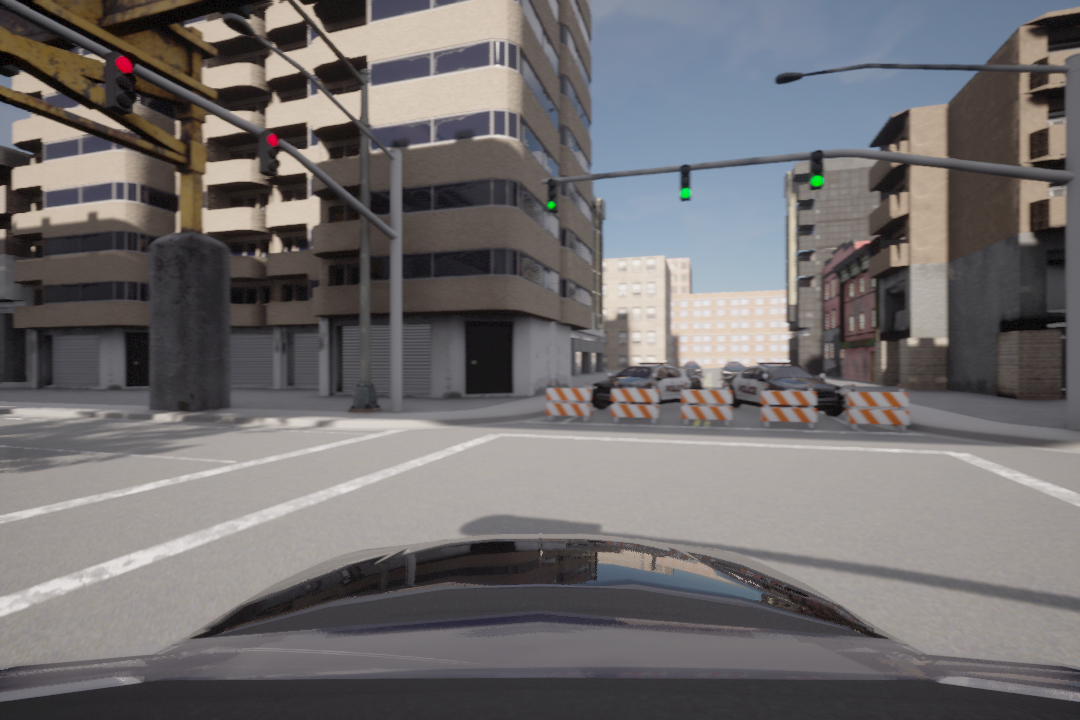TrafficLight: (104, 48, 138, 111), (255, 130, 283, 175), (674, 159, 697, 204), (807, 151, 825, 192), (544, 179, 558, 214)
